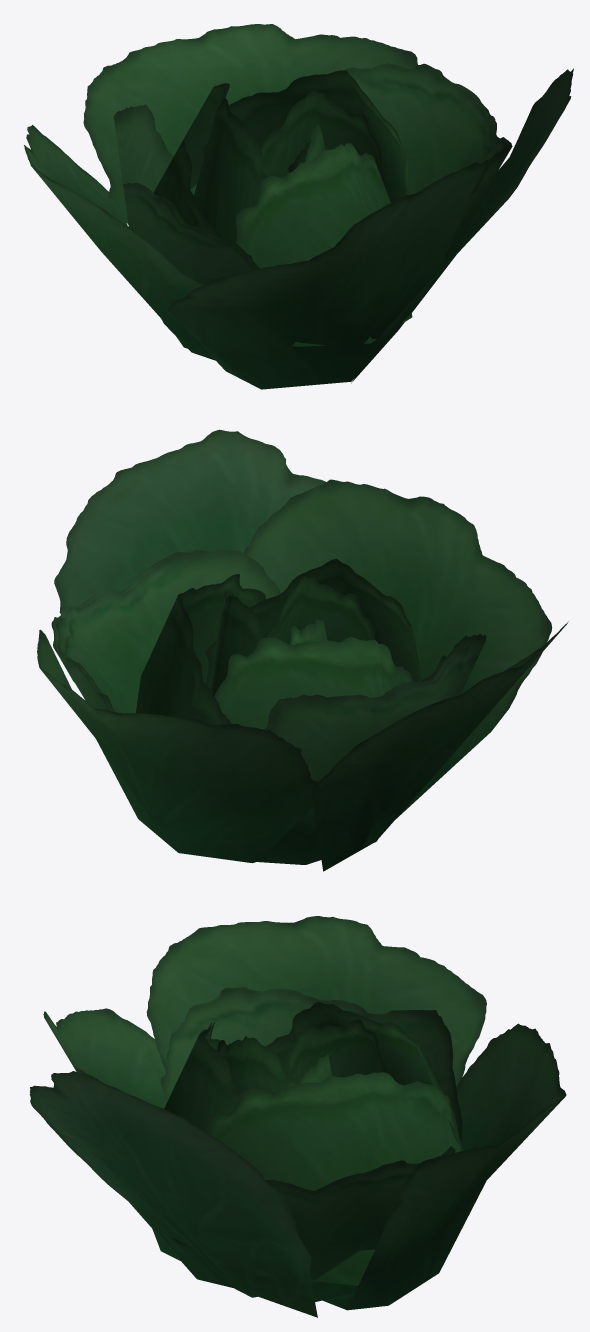
Rendered from gardenbed_cabbage1.FBX.
3 views of the same model, one above another, from view 1: azimuth 30°, elevation 25°; view 2: azimuth 150°, elevation 25°; view 3: azimuth 270°, elevation 25° (orthographic).
Visible parts, largest first — view 1: gardenbed_cabbage1; view 2: gardenbed_cabbage1; view 3: gardenbed_cabbage1.
Part boxes in pixels (x1=…): gardenbed_cabbage1: x1=24, y1=24, x2=573, y2=389; gardenbed_cabbage1: x1=37, y1=429, x2=568, y2=871; gardenbed_cabbage1: x1=29, y1=916, x2=566, y2=1317.
Size of the model in its own units: 14.71 by 8.54 by 13.71.
1 material, 1 textured.
